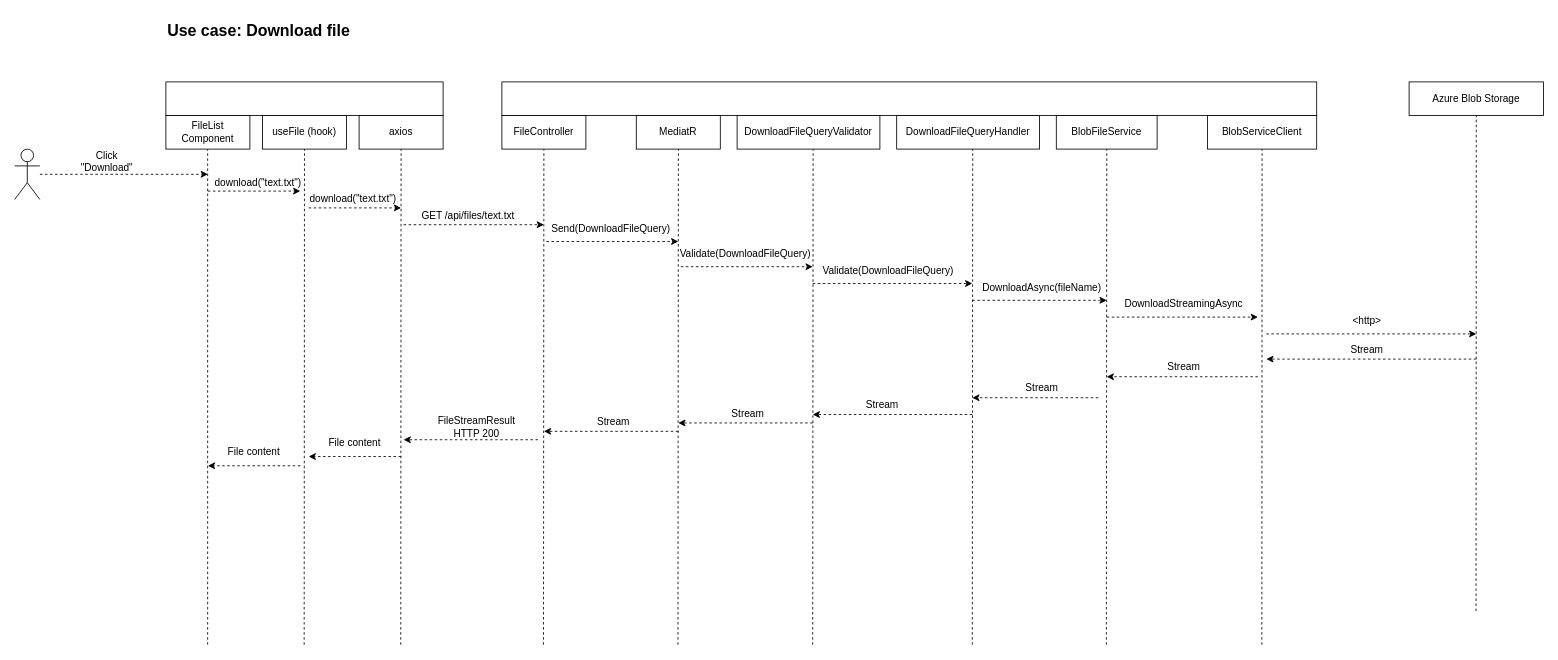
The diagram is 1558 pixels wide and 660 high, and some of its shapes have lost their labels. Here are the shapes that lost their labels. From the top down, the centre of each, then its label:
At (x=304, y=98): "Frontend (React)".
At (x=909, y=98): "Backend (.net 8)".
At (x=27, y=174): "Actor".
